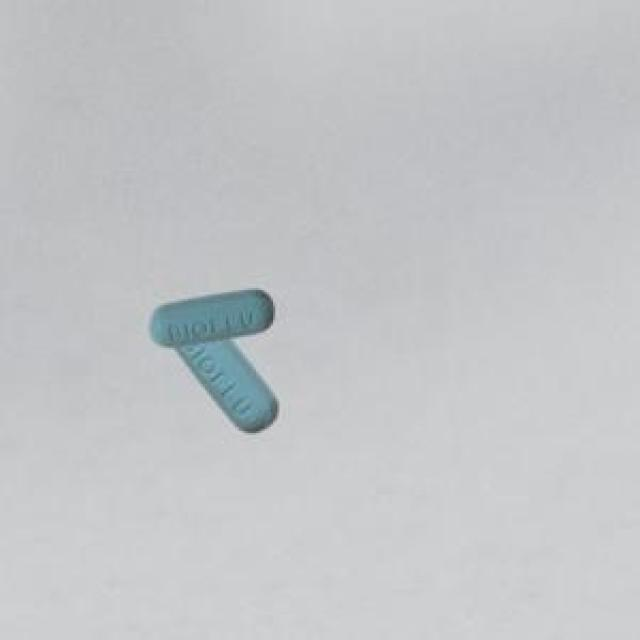Bioflu: (142, 279, 296, 445)
